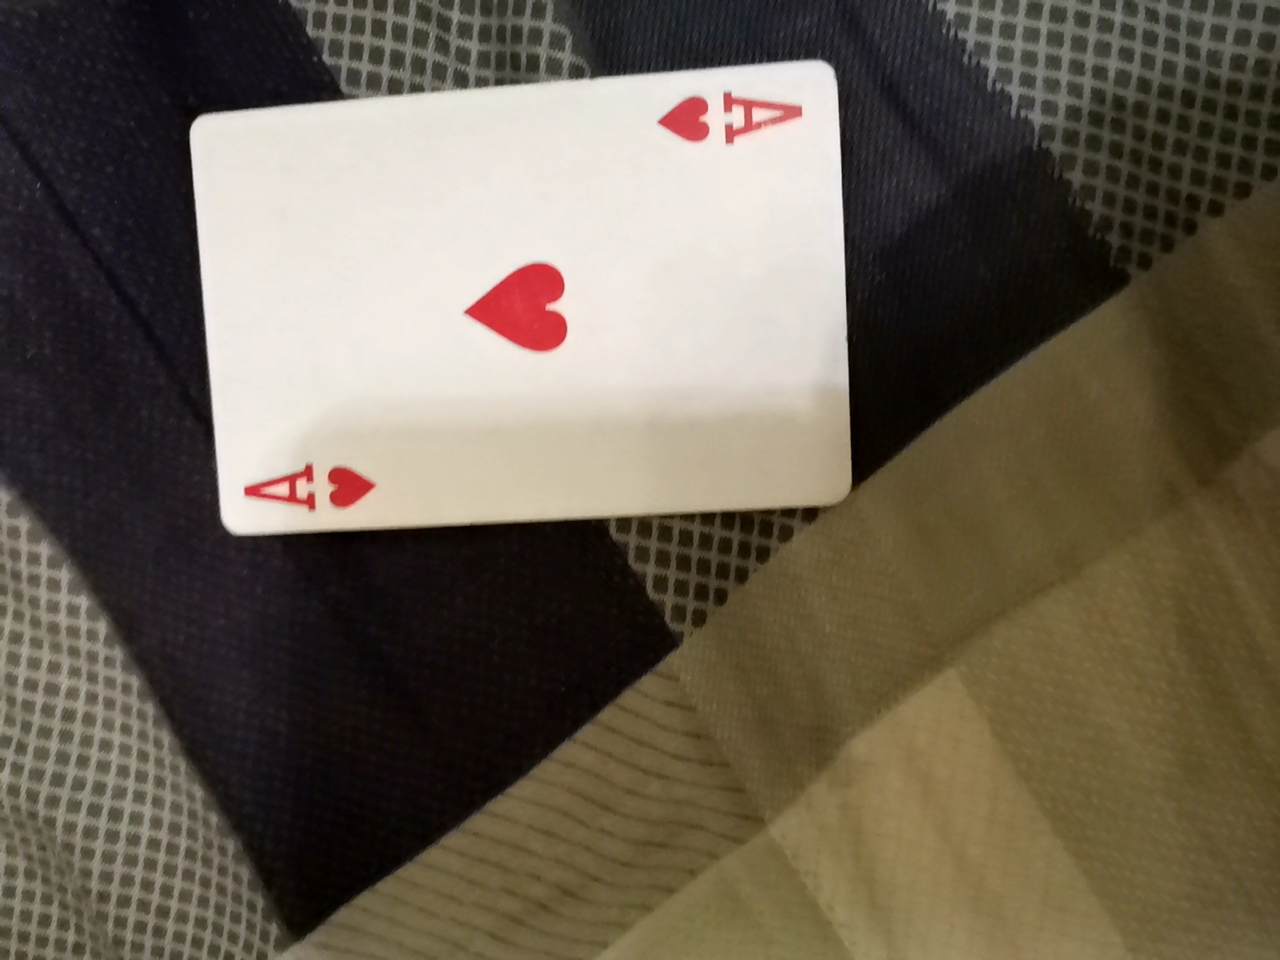hx a: (170, 33, 852, 517)
